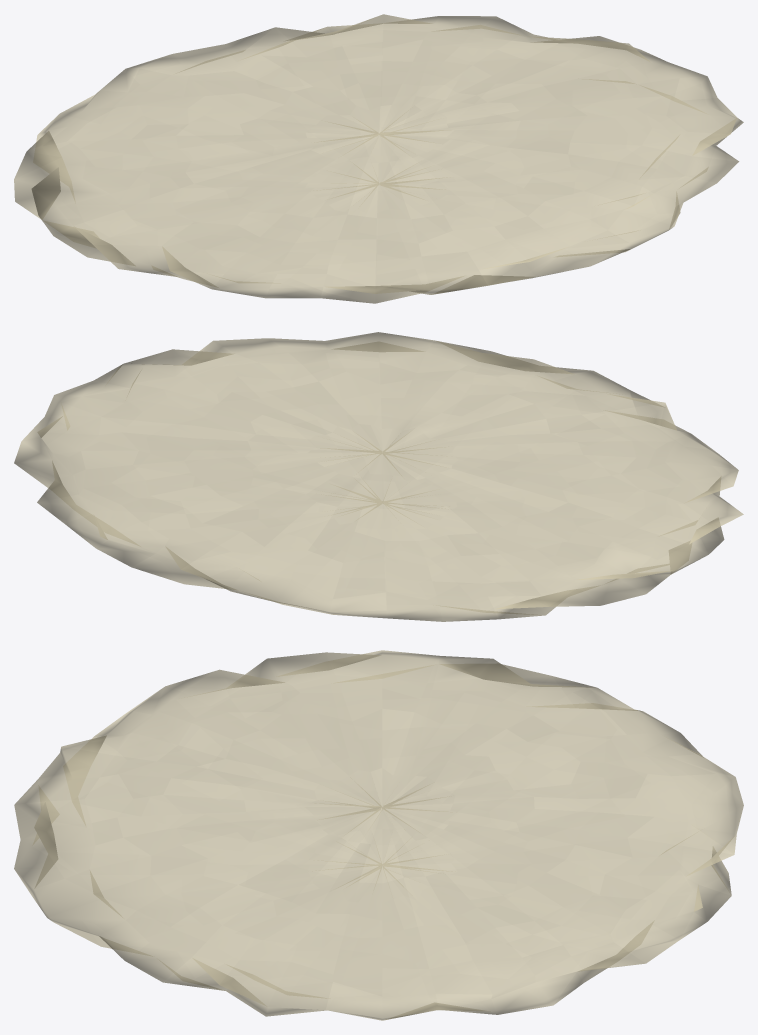
File: EggWhite.glb
3 views of the same model, one above another, from view 1: azimuth 30°, elevation 25°; view 2: azimuth 150°, elevation 25°; view 3: azimuth 270°, elevation 25° (orthographic). The views are drawn at different scales.
Visible parts, largest first — view 1: EggWhite; view 2: EggWhite; view 3: EggWhite.
Boxes of the visible parts, <box> form: EggWhite: <box>14,14,743,303</box>; EggWhite: <box>14,332,743,621</box>; EggWhite: <box>14,650,743,1020</box>.
Size of what is drawn, in the model's own units: 0.0741 by 0.00579 by 0.0621.
